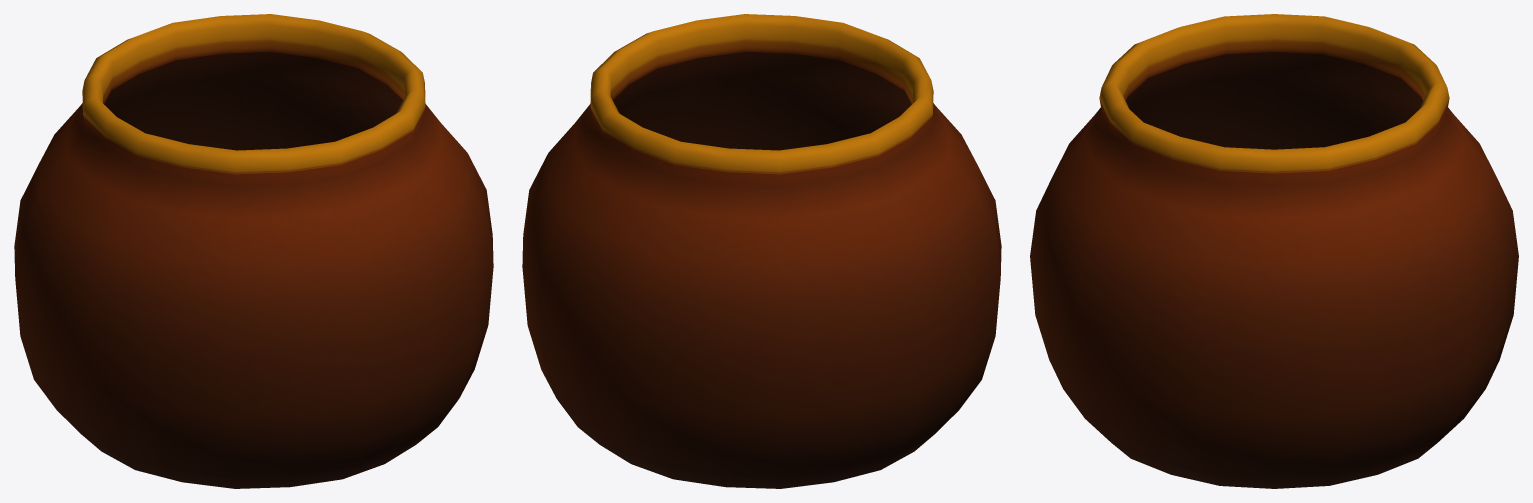
The model's file is pot.obj.
The picture shows the model from 3 angles, left to right: view 1: azimuth 30°, elevation 25°; view 2: azimuth 150°, elevation 25°; view 3: azimuth 270°, elevation 25°; orthographic projection.
Parts seen in each view (by area): view 1: StylizedPot-01_Cylinder.001; view 2: StylizedPot-01_Cylinder.001; view 3: StylizedPot-01_Cylinder.001.
Part boxes in pixels (left/top/right/bottom): StylizedPot-01_Cylinder.001: left=14, top=14, right=493, bottom=488; StylizedPot-01_Cylinder.001: left=522, top=14, right=1001, bottom=488; StylizedPot-01_Cylinder.001: left=1030, top=14, right=1518, bottom=488.
Bounding box in the file's own units: 1.25 × 0.949 × 1.26.
1 material, 1 textured.
